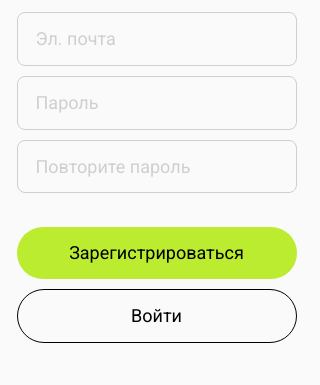
Scenario: Форма регистрации › Показывает ошибку, если пароли не совпадают
In the field labelled "Эл. почта": (156,39) [16,12,296,66], type "user@mail.ru"
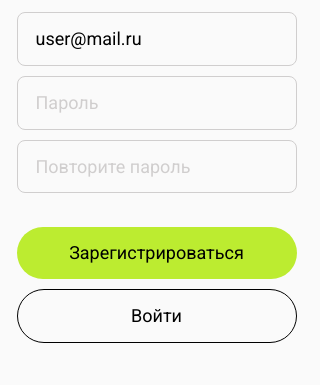
In the password field labelled "Пароль": (156,103) [16,76,296,130], type "Abcdef!!"
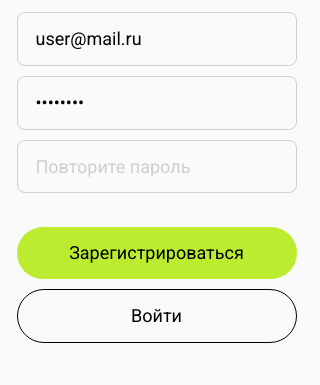
In the password field labelled "Повторите пароль": (156,166) [16,140,296,193], type "Abcdef!?"
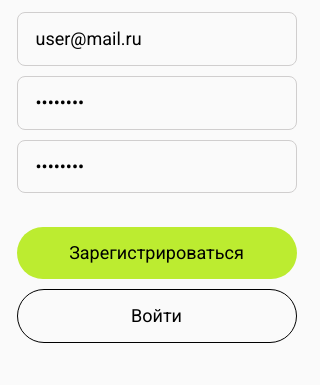
Click the button "Зарегистрироваться": (156,253) [16,227,296,279]
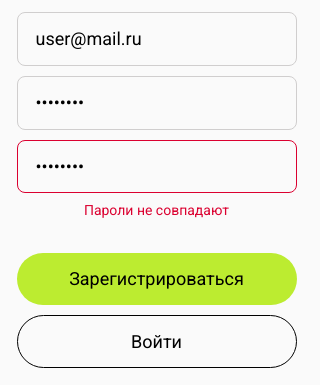
Check: the text "Пароли не совпадают" is shown, box [84,203,229,219]
